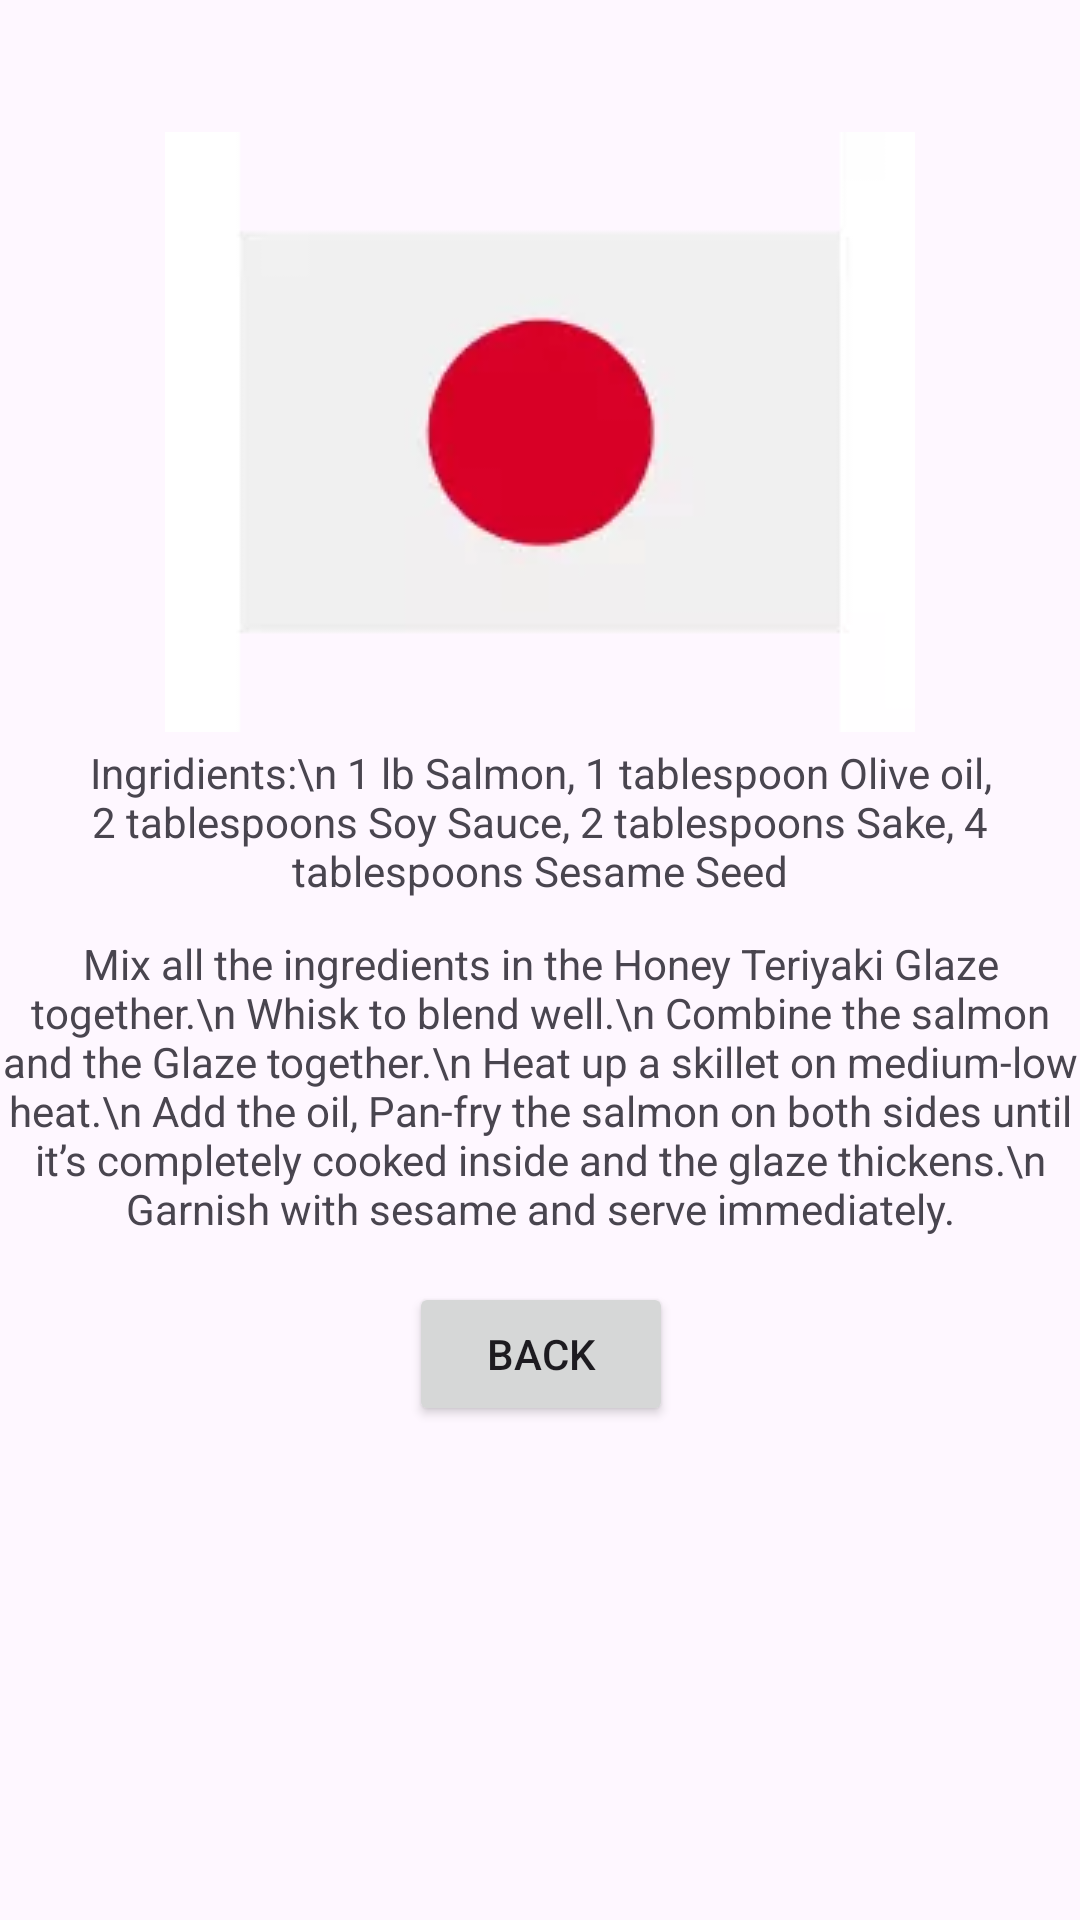

Screen size 1080*1920. Icon name, then its box in pixels as rect(x1, y1, x2, y2):
japan: rect(424, 316, 658, 552)
